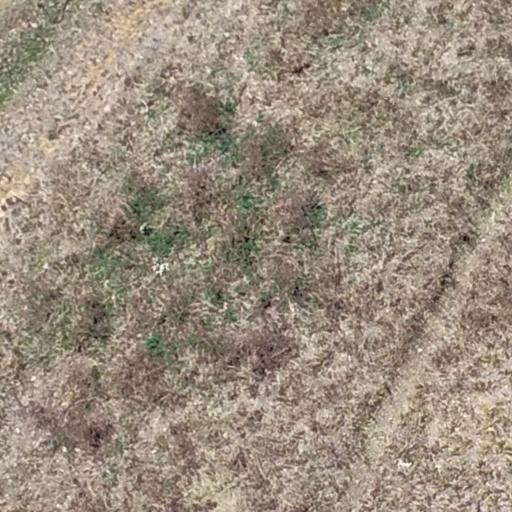stone: (398, 458, 412, 471)
